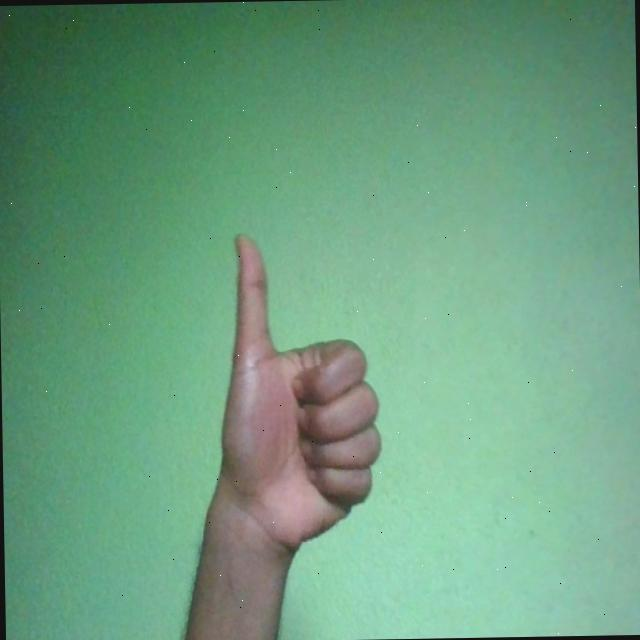Good Job: (217, 232, 384, 559)
